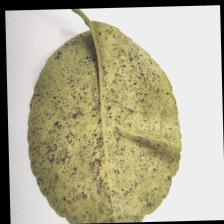canker: (46, 73, 156, 179)
